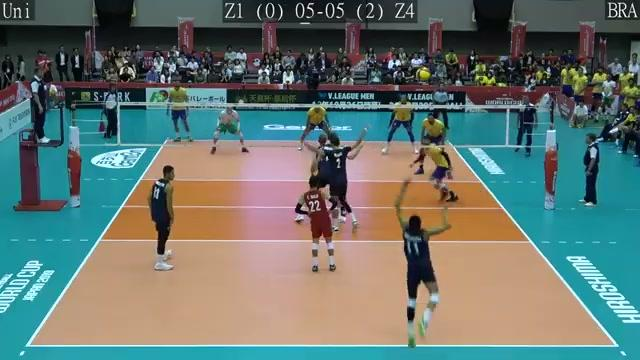ball: (414, 65, 434, 85)
